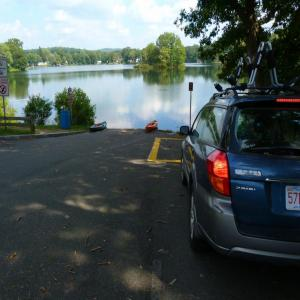Vehicle-registration-plate: (286, 185, 300, 211)
